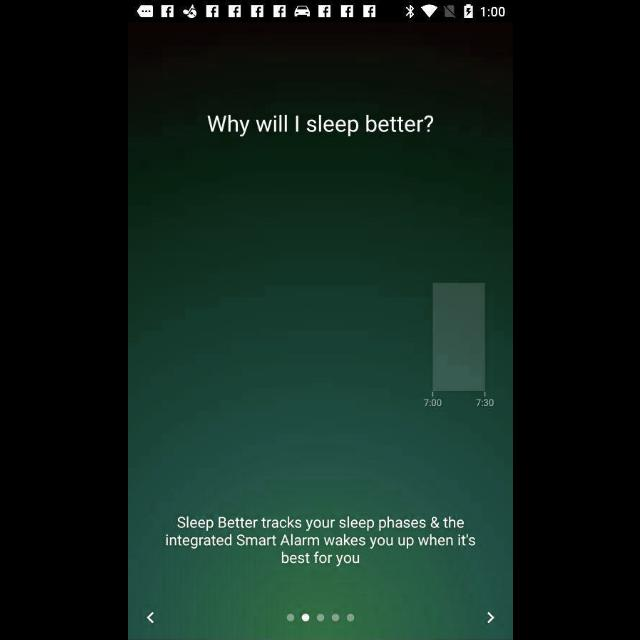icon: (486, 612, 494, 624), (146, 612, 154, 624)
pageindicator: (286, 614, 354, 622)
text: (164, 515, 476, 567), (207, 114, 433, 138)
uppertaskbar: (128, 1, 512, 23)
